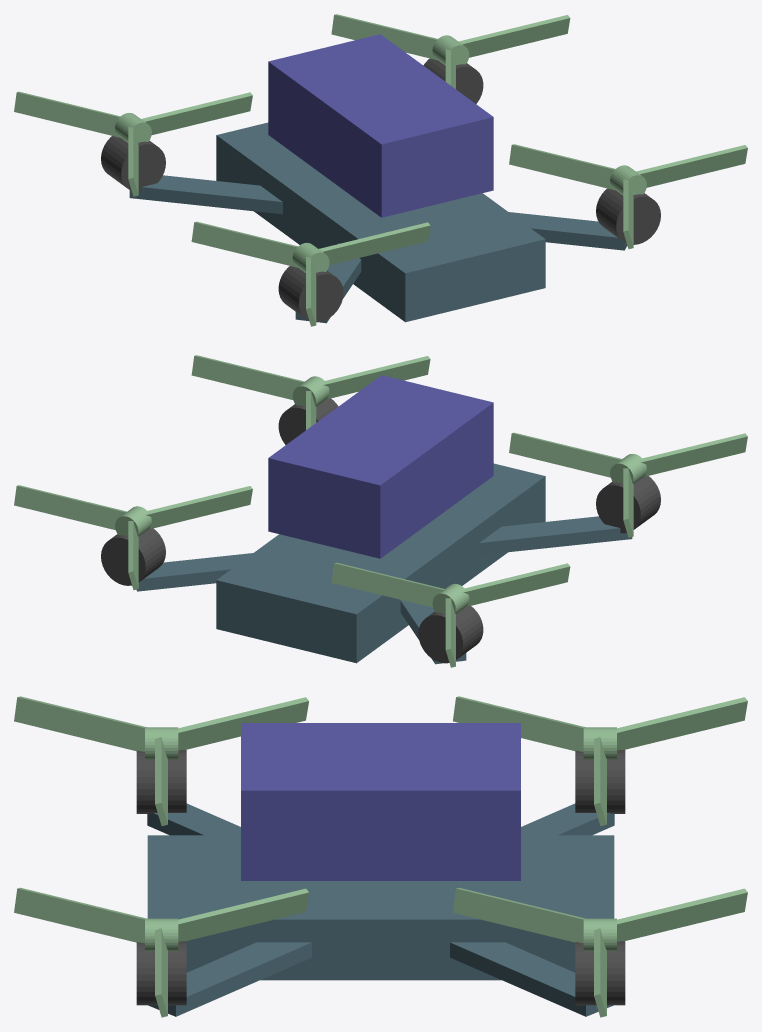
The model's file is Arch Angel Orange.glb.
3 views of the same model, one above another, from view 1: azimuth 30°, elevation 25°; view 2: azimuth 150°, elevation 25°; view 3: azimuth 270°, elevation 25° (orthographic). The views are drawn at different scales.
Visible parts, largest first — view 1: battery, frame_body, prop_0, prop_2, prop_3, prop_1, arm_3, arm_0, motor_0, motor_2, motor_3, motor_1 (+1 smaller); view 2: battery, frame_body, prop_1, prop_2, prop_3, prop_0, arm_2, arm_1, motor_1, motor_3, motor_2, motor_0 (+1 smaller); view 3: battery, frame_body, prop_1, prop_0, prop_2, prop_3, arm_1, arm_0, motor_0, motor_1, motor_2, motor_3 (+2 smaller).
Boxes of the visible parts, box(x1,y1,x2,y2) form: battery: box(268, 34, 493, 217); frame_body: box(216, 122, 545, 322); prop_0: box(509, 144, 747, 249); prop_2: box(191, 221, 430, 326); prop_3: box(14, 91, 252, 196); prop_1: box(331, 14, 570, 88); arm_3: box(129, 175, 282, 214); arm_0: box(509, 212, 627, 250); motor_0: box(596, 188, 660, 244); motor_2: box(278, 266, 343, 322); motor_3: box(101, 136, 165, 192); motor_1: box(423, 58, 483, 103); battery: box(268, 375, 493, 558); frame_body: box(216, 463, 545, 663); prop_1: box(14, 485, 252, 590); prop_2: box(509, 432, 747, 537); prop_3: box(331, 562, 570, 667); prop_0: box(191, 355, 430, 429); arm_2: box(479, 516, 632, 555); arm_1: box(136, 553, 252, 591); motor_1: box(101, 528, 165, 585); motor_3: box(418, 606, 483, 663); motor_2: box(596, 476, 660, 533); motor_0: box(278, 398, 338, 444); battery: box(241, 723, 520, 880); frame_body: box(147, 835, 614, 980); prop_1: box(453, 887, 747, 1017); prop_0: box(14, 887, 308, 1017); prop_2: box(14, 696, 308, 825); prop_3: box(453, 696, 747, 826); arm_1: box(450, 942, 613, 1016); arm_0: box(148, 942, 311, 1016); motor_0: box(136, 941, 186, 1005); motor_1: box(575, 941, 625, 1005); motor_2: box(136, 750, 186, 813); motor_3: box(575, 750, 625, 813).
Size of the model in its own units: 0.2125 by 0.06 by 0.2201.
